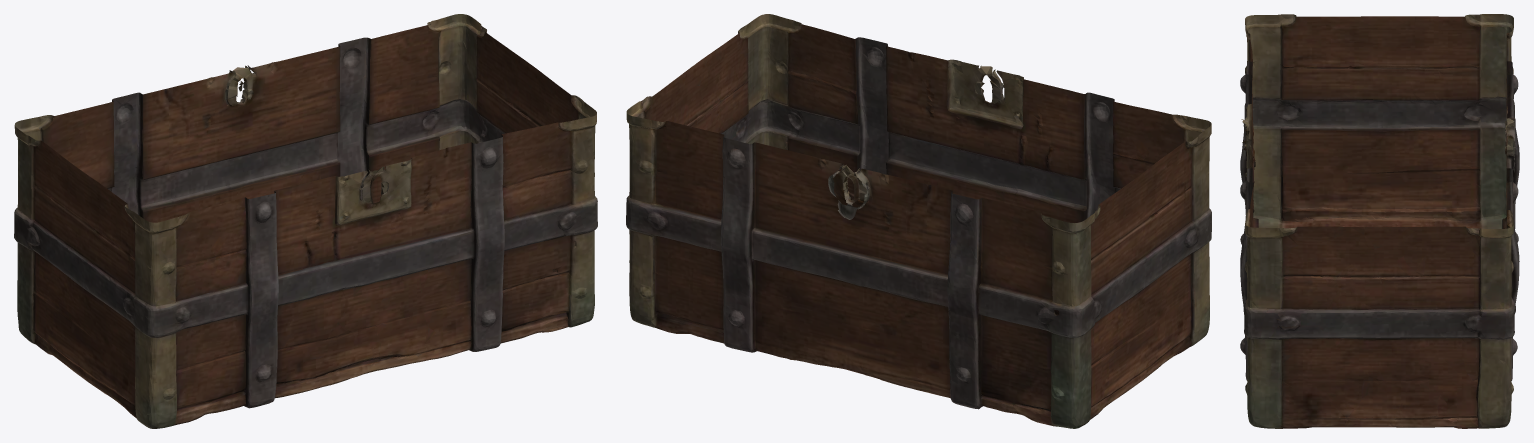
Rendered from body.glb.
The picture shows the model from 3 angles, left to right: view 1: azimuth 30°, elevation 25°; view 2: azimuth 150°, elevation 25°; view 3: azimuth 270°, elevation 25°; orthographic projection. The views are drawn at different scales.
Visible parts, largest first — view 1: source_surface_0; view 2: source_surface_0; view 3: source_surface_0.
Boxes of the visible parts, bbox=[...] form: source_surface_0: bbox=[14, 14, 597, 428]; source_surface_0: bbox=[626, 14, 1211, 428]; source_surface_0: bbox=[1240, 14, 1519, 428].
Bounding box in the file's own units: 0.5942 × 0.267 × 0.3259.
Materials: 1 (1 with a texture image).
